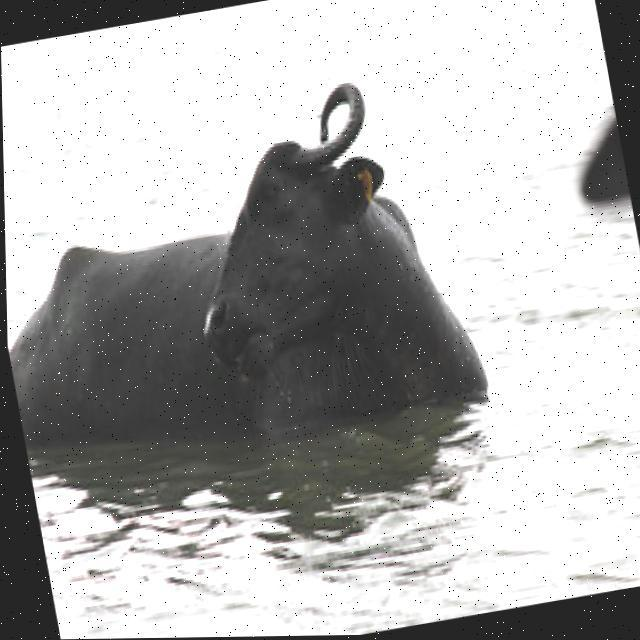Buffalo: (2, 61, 495, 483)
